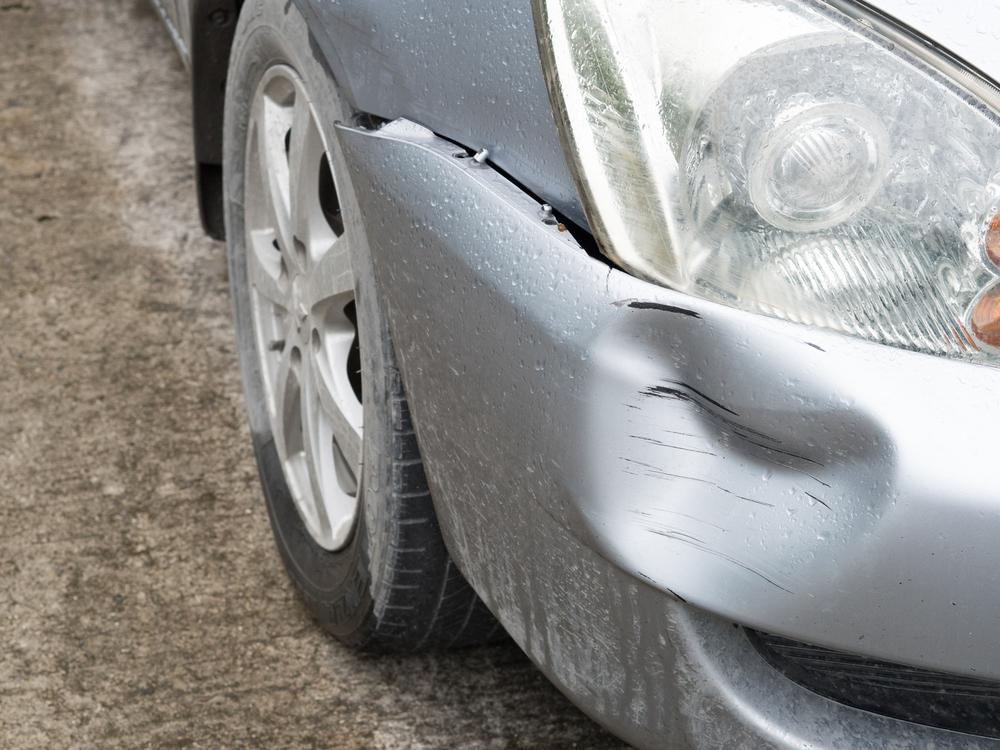dent: (583, 305, 893, 615)
